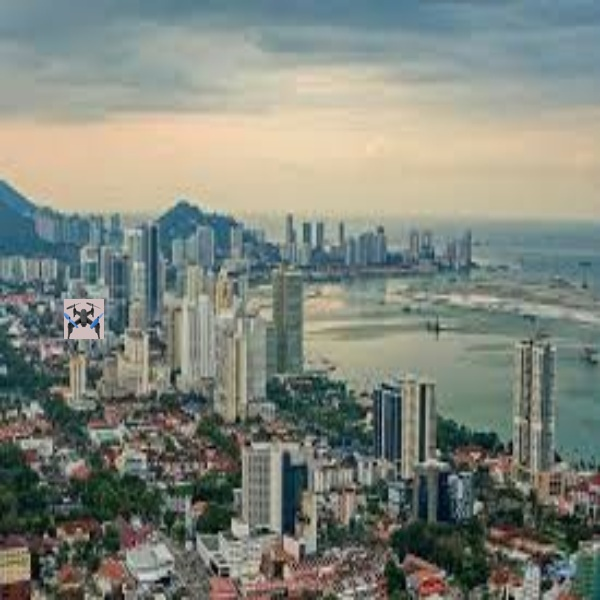drone: (65, 297, 104, 340)
